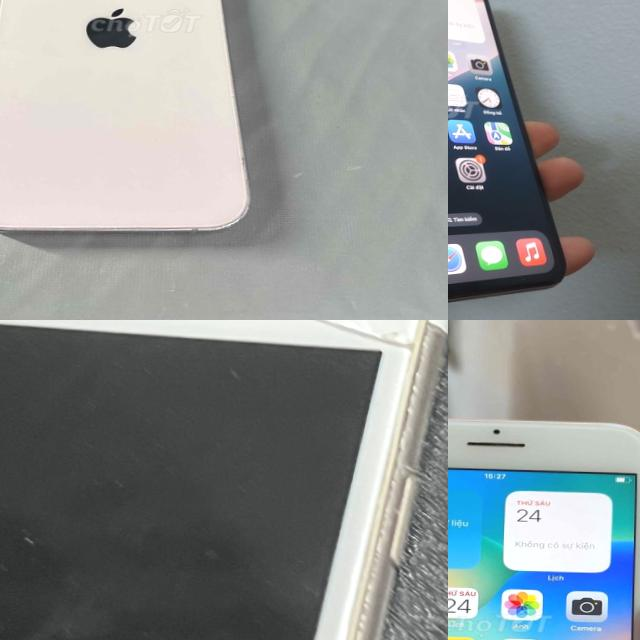gen_11: (448, 0, 562, 300)
gen_12_13: (0, 0, 256, 239)
gen_7_8: (0, 320, 448, 640), (448, 399, 640, 640)
